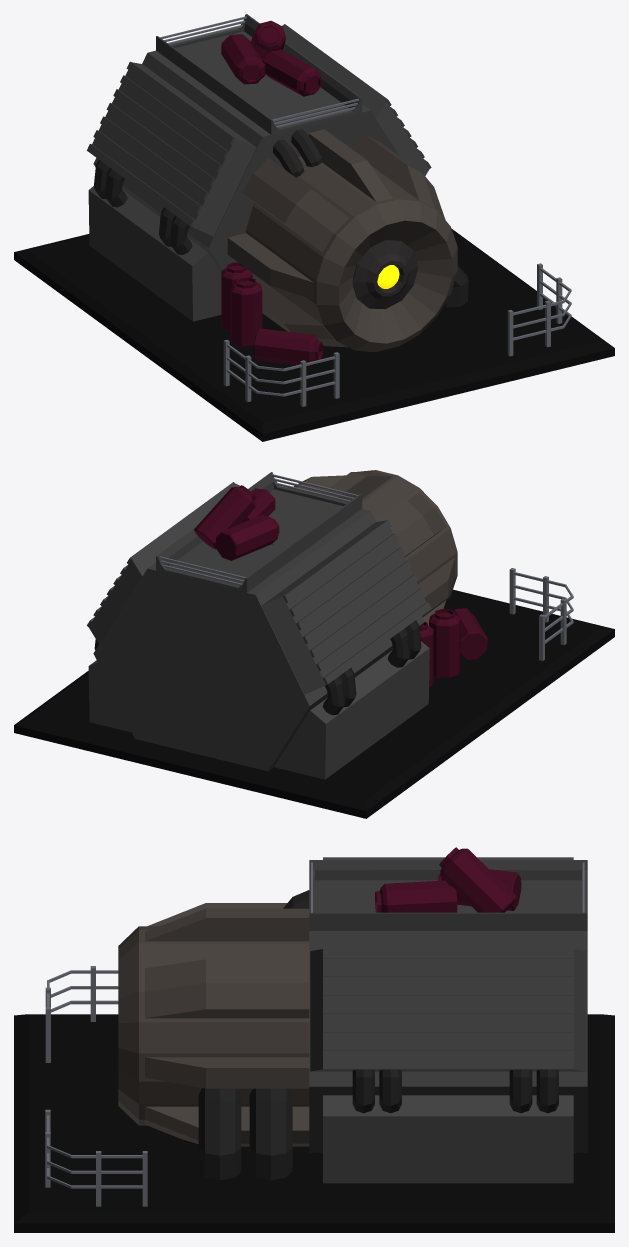
The model's file is generator.fbx.
The picture shows the model from 3 angles, top to bottom: view 1: azimuth 30°, elevation 25°; view 2: azimuth 150°, elevation 25°; view 3: azimuth 270°, elevation 25°; orthographic projection. The views are drawn at different scales.
Visible parts, largest first — view 1: chassi, Base, BIGMOTOR, barrels, GUARDS, ALLDUCTS, MIDDLE, guardrails, BARREL; view 2: chassi, Base, BIGMOTOR, barrels, ALLDUCTS, GUARDS, BARREL, guardrails; view 3: chassi, Base, BIGMOTOR, ALLDUCTS, GUARDS, barrels, BARREL.
Boxes of the visible parts, left/top/right/bottom form: chassi: left=87, top=14, right=431, bottom=321; Base: left=14, top=228, right=614, bottom=441; BIGMOTOR: left=227, top=129, right=457, bottom=352; barrels: left=221, top=34, right=323, bottom=366; GUARDS: left=223, top=263, right=571, bottom=406; ALLDUCTS: left=94, top=129, right=468, bottom=307; MIDDLE: left=352, top=240, right=418, bottom=309; guardrails: left=160, top=16, right=359, bottom=127; BARREL: left=251, top=20, right=285, bottom=59; chassi: left=87, top=472, right=431, bottom=779; Base: left=14, top=589, right=614, bottom=818; BIGMOTOR: left=294, top=470, right=457, bottom=625; barrels: left=216, top=488, right=487, bottom=687; ALLDUCTS: left=94, top=620, right=421, bottom=715; GUARDS: left=509, top=568, right=573, bottom=660; BARREL: left=194, top=485, right=255, bottom=549; guardrails: left=159, top=474, right=358, bottom=585; chassi: left=309, top=857, right=587, bottom=1183; Base: left=14, top=1014, right=614, bottom=1232; BIGMOTOR: left=118, top=903, right=309, bottom=1146; ALLDUCTS: left=198, top=890, right=558, bottom=1180; GUARDS: left=45, top=966, right=147, bottom=1206; barrels: left=375, top=869, right=521, bottom=912; BARREL: left=439, top=847, right=516, bottom=912.
Size of the model in its own units: 1910 by 1233 by 2334.
